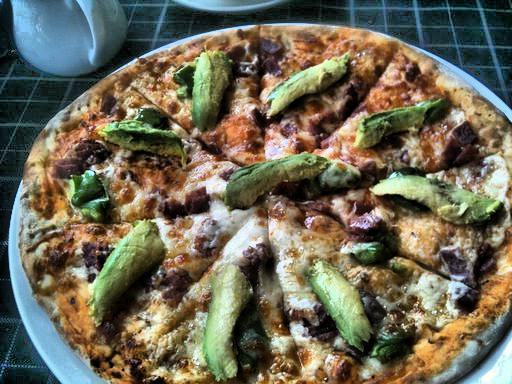pizza: (26, 37, 512, 384)
